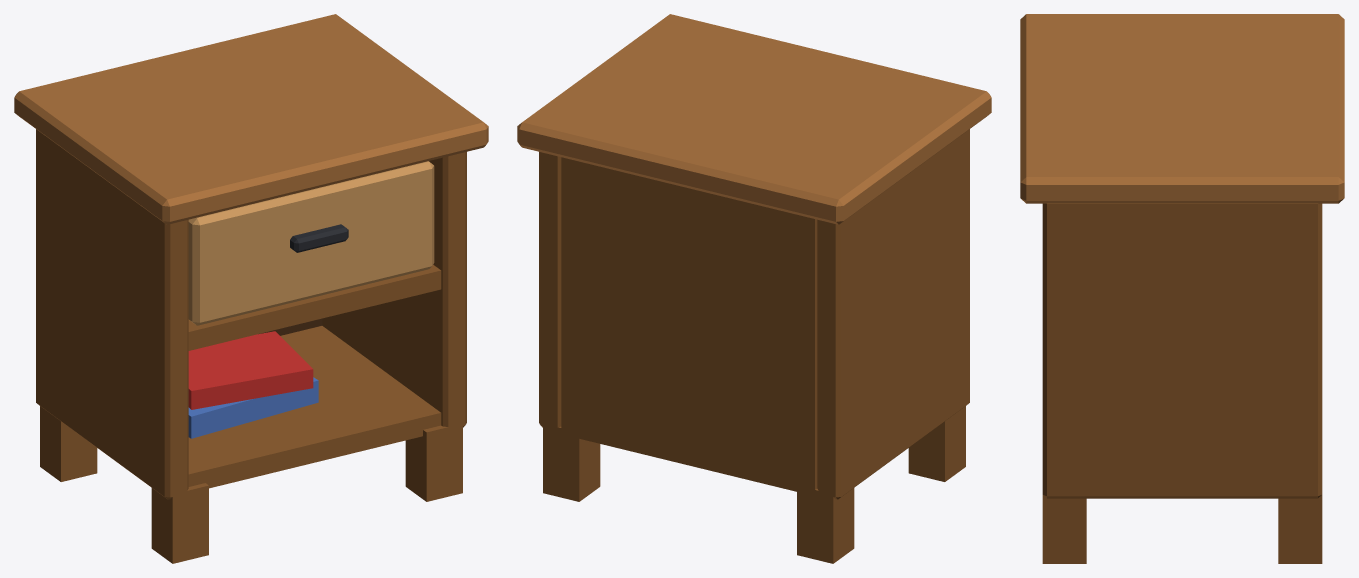
File: Prop_Nightstand.fbx
The picture shows the model from 3 angles, left to right: view 1: azimuth 30°, elevation 25°; view 2: azimuth 150°, elevation 25°; view 3: azimuth 270°, elevation 25°; orthographic projection. The views are drawn at different scales.
Visible parts, largest first — view 1: Prop_Nightstand; view 2: Prop_Nightstand; view 3: Prop_Nightstand.
Part boxes in pixels (x1,y1,x2,y2): Prop_Nightstand: (14, 14, 488, 563); Prop_Nightstand: (517, 14, 991, 563); Prop_Nightstand: (1020, 14, 1344, 563).
Size of the model in its own units: 0.54 by 0.59 by 0.44.
